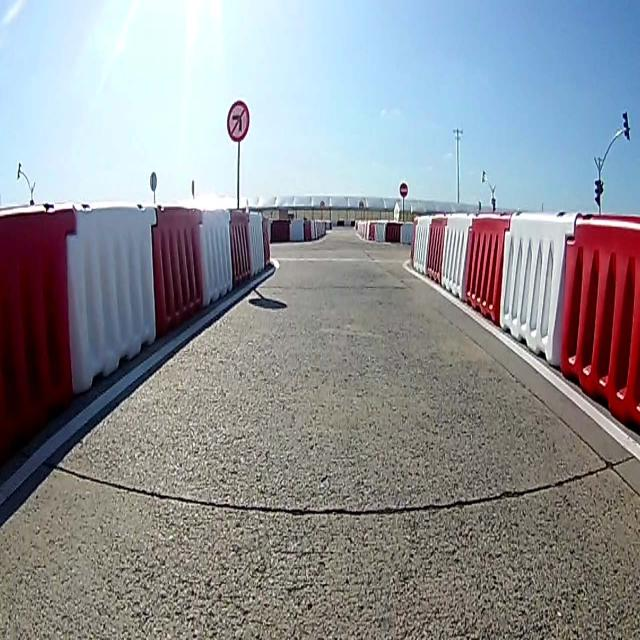girisyok: (400, 181, 409, 199)
soladonulmez: (228, 102, 250, 143)
